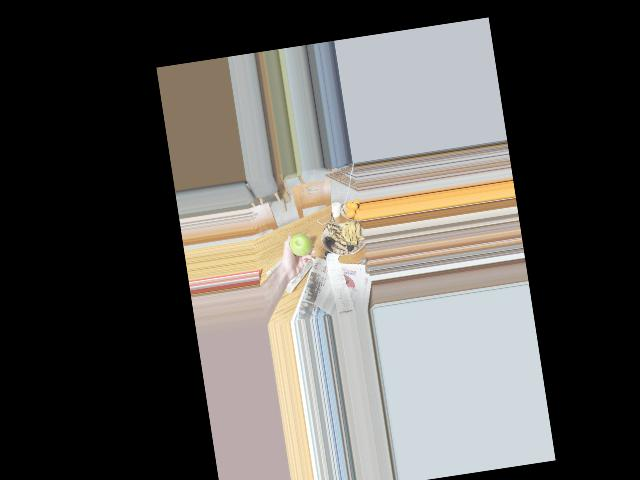apple: (287, 228, 314, 259)
